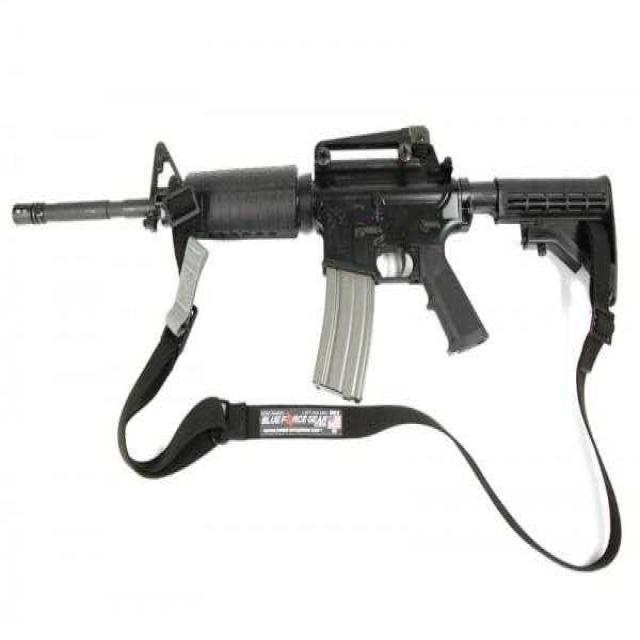heavyweapon: (12, 91, 624, 451)
